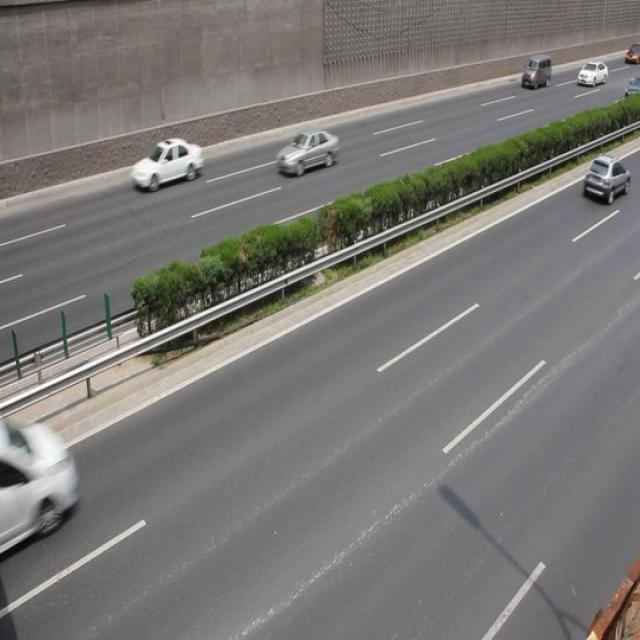car: (130, 136, 201, 193), (275, 128, 339, 178), (580, 156, 626, 204), (575, 59, 607, 87)
truck: (519, 53, 551, 88)
